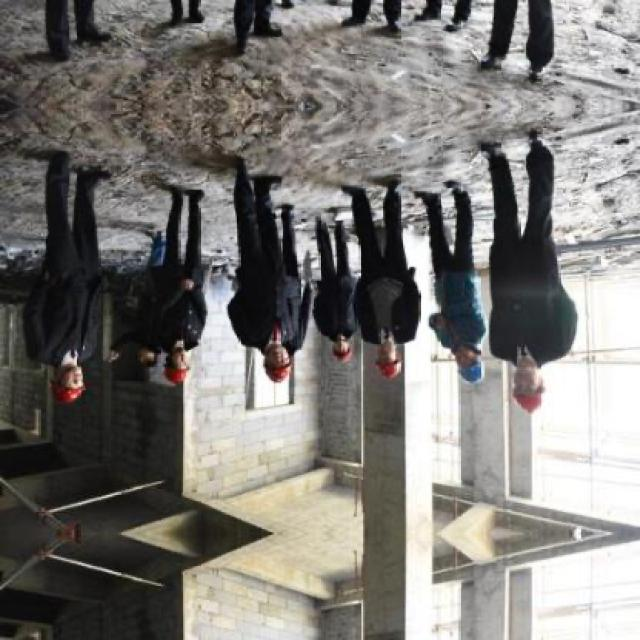con casco: (487, 365, 566, 437), (231, 340, 312, 393), (51, 349, 117, 414), (141, 353, 214, 395), (451, 344, 499, 406), (354, 338, 410, 383)
